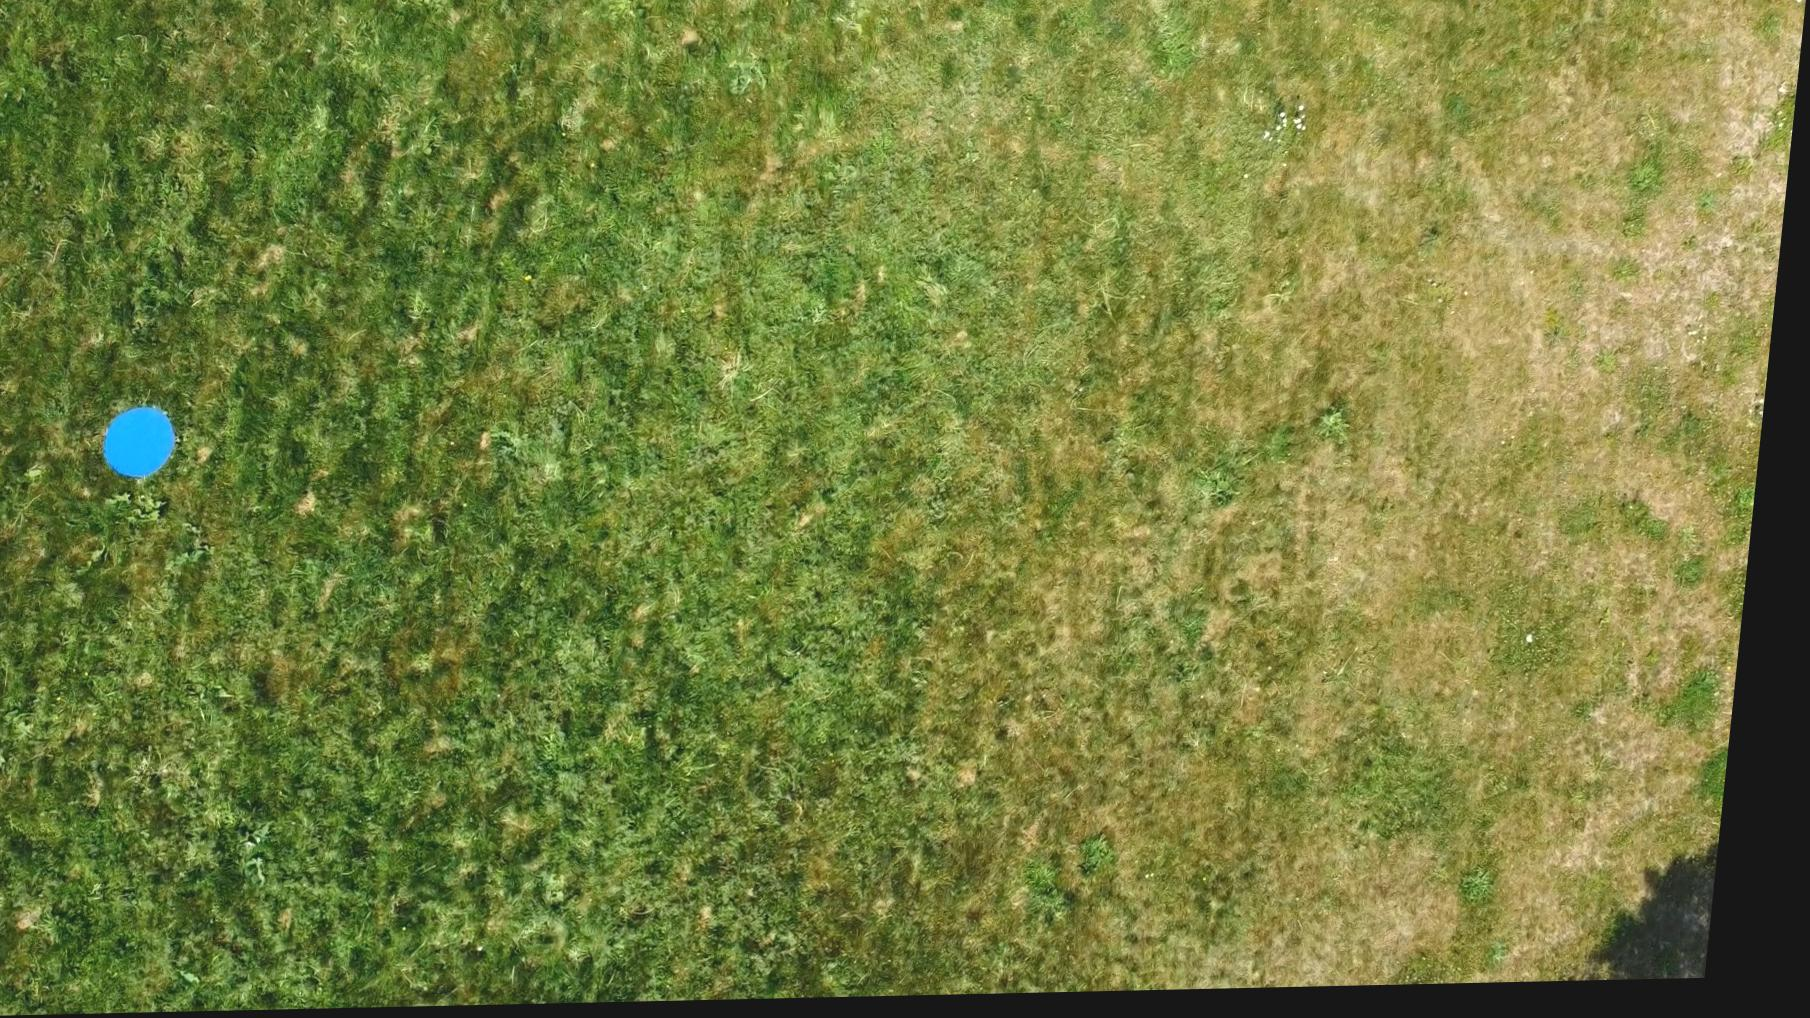Blue: (104, 403, 190, 482)
